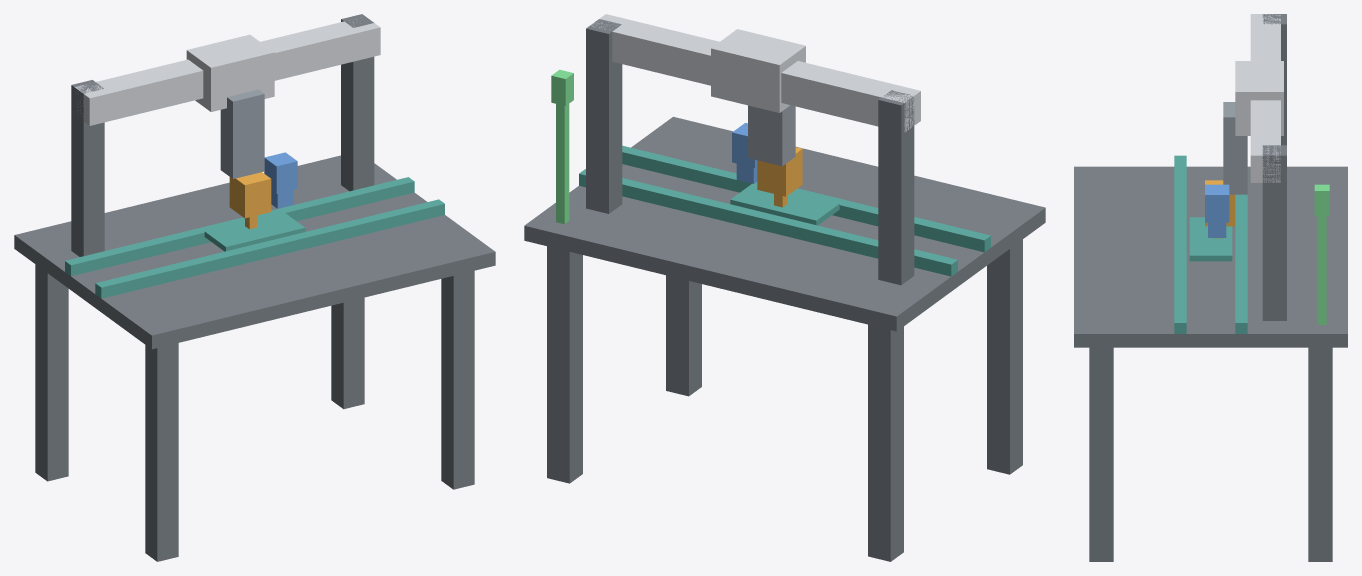
The model's file is station_digital_twin.glb.
3 views of the same model, side by side, from view 1: azimuth 30°, elevation 25°; view 2: azimuth 150°, elevation 25°; view 3: azimuth 270°, elevation 25° (orthographic). The views are drawn at different scales.
Parts seen in each view (by area): view 1: FRAME-BASE-01, GANTRY-X-01, CONVEYOR-01, GANTRY-Z-01, TOOL-HEAD-01, VISION-CAM-01; view 2: FRAME-BASE-01, GANTRY-X-01, CONVEYOR-01, GANTRY-Z-01, PANEL-STATUS-01, TOOL-HEAD-01, VISION-CAM-01; view 3: FRAME-BASE-01, GANTRY-X-01, CONVEYOR-01, GANTRY-Z-01, PANEL-STATUS-01, VISION-CAM-01, TOOL-HEAD-01.
Part boxes in pixels (left/top/right/bottom): FRAME-BASE-01: left=14, top=14, right=495, bottom=561; GANTRY-X-01: left=75, top=17, right=380, bottom=125; CONVEYOR-01: left=65, top=177, right=444, bottom=298; GANTRY-Z-01: left=220, top=89, right=264, bottom=178; TOOL-HEAD-01: left=229, top=172, right=271, bottom=229; VISION-CAM-01: left=264, top=152, right=297, bottom=208; FRAME-BASE-01: left=524, top=19, right=1045, bottom=561; GANTRY-X-01: left=591, top=14, right=920, bottom=131; CONVEYOR-01: left=579, top=145, right=990, bottom=276; GANTRY-Z-01: left=748, top=105, right=795, bottom=166; PANEL-STATUS-01: left=551, top=69, right=573, bottom=223; TOOL-HEAD-01: left=757, top=147, right=802, bottom=207; VISION-CAM-01: left=732, top=123, right=757, bottom=183; FRAME-BASE-01: left=1074, top=14, right=1347, bottom=561; GANTRY-X-01: left=1235, top=14, right=1283, bottom=182; CONVEYOR-01: left=1174, top=155, right=1247, bottom=333; GANTRY-Z-01: left=1223, top=102, right=1247, bottom=194; PANEL-STATUS-01: left=1314, top=184, right=1329, bottom=324; VISION-CAM-01: left=1205, top=184, right=1229, bottom=237; TOOL-HEAD-01: left=1205, top=180, right=1235, bottom=238.
Bounding box in the file's own units: 1.3 × 1.48 × 0.9.
